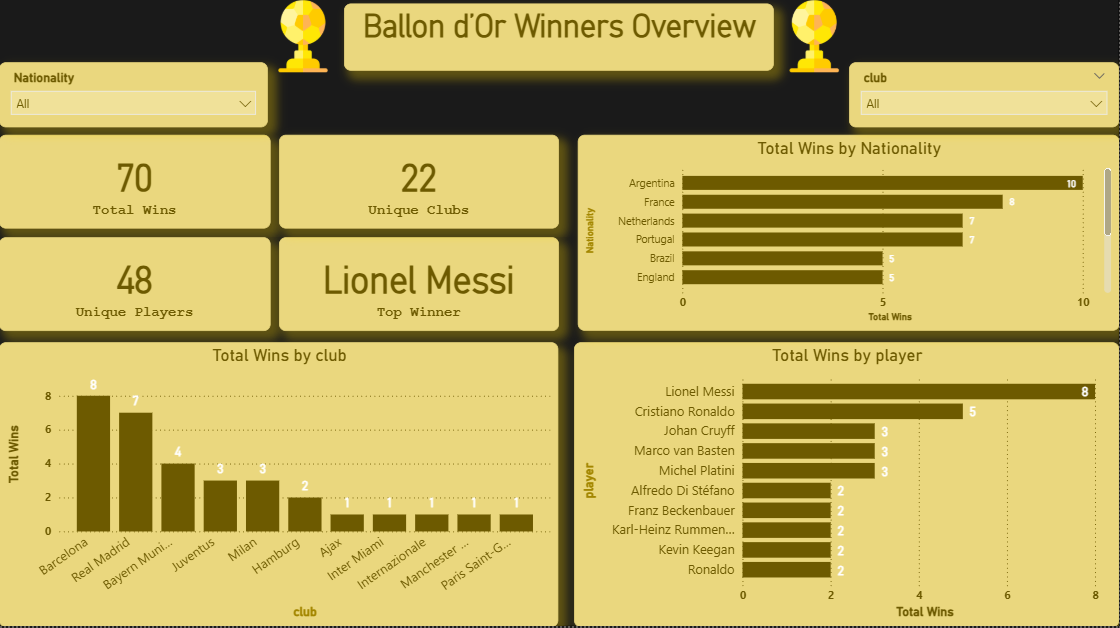

The page's visual inventory and layout, read from the dashboard file:
{"tool":"powerbi","page":{"name":"Overview","canvas":[1280,720],"ordinal":0},"visuals":[{"type":"card","fields":{"Values":["measures (2).Total Wins"]},"box":[0,159.2,310.1,107],"z":0},{"type":"card","fields":{"Values":["measures (2).Unique Players"]},"box":[0,275.8,310.1,107],"z":1000},{"type":"card","fields":{"Values":["measures (2).Top Winner"]},"box":[319.7,275.8,319.7,107],"z":2000},{"type":"columnChart","fields":{"Category":["Ballondor_winners.club"],"Y":["measures (2).Total Wins"]},"box":[0,395.2,639.5,325.2],"z":3000},{"type":"barChart","fields":{"Category":["Ballondor_winners.player"],"Y":["measures (2).Total Wins"]},"box":[657.3,395.2,623,325.2],"z":4000},{"type":"barChart","fields":{"Y":["measures (2).Total Wins"],"Category":["Ballondor_winners.Nationality"]},"box":[661.4,159.2,618.9,223.7],"z":5000},{"type":"card","fields":{"Values":["measures (2).Unique Clubs"]},"box":[319.7,159.2,319.7,107],"z":6000},{"type":"textbox","title":"Ballon d’Or Winners Overview","box":[394.4,8.2,491.3,76.8],"z":7000},{"type":"slicer","fields":{"Values":["Ballondor_winners.club"]},"box":[971.5,75.5,308.7,74.1],"z":8000},{"type":"slicer","fields":{"Values":["Ballondor_winners.Nationality"]},"box":[0,75.5,307.4,74.1],"z":9000},{"type":"image","box":[301.9,0,91.9,91.9],"z":10000},{"type":"image","box":[885.1,0,91.9,91.9],"z":11000}]}

Visuals, with their boxes in screenshot pixels (x1, y1, x2, y2), scaled from the page's 1280x720 canvas onto the 1120x628 screenshot:
card - measures (2).Total Wins: [0, 139, 271, 232]
card - measures (2).Unique Players: [0, 241, 271, 334]
card - measures (2).Top Winner: [280, 241, 559, 334]
columnChart - Ballondor_winners.club x measures (2).Total Wins: [0, 345, 560, 627]
barChart - Ballondor_winners.player x measures (2).Total Wins: [575, 345, 1119, 627]
barChart - measures (2).Total Wins x Ballondor_winners.Nationality: [579, 139, 1119, 334]
card - measures (2).Unique Clubs: [280, 139, 559, 232]
"Ballon d’Or Winners Overview" textbox: [345, 7, 775, 74]
slicer - Ballondor_winners.club: [850, 66, 1119, 130]
slicer - Ballondor_winners.Nationality: [0, 66, 269, 130]
image: [264, 0, 345, 80]
image: [774, 0, 855, 80]
